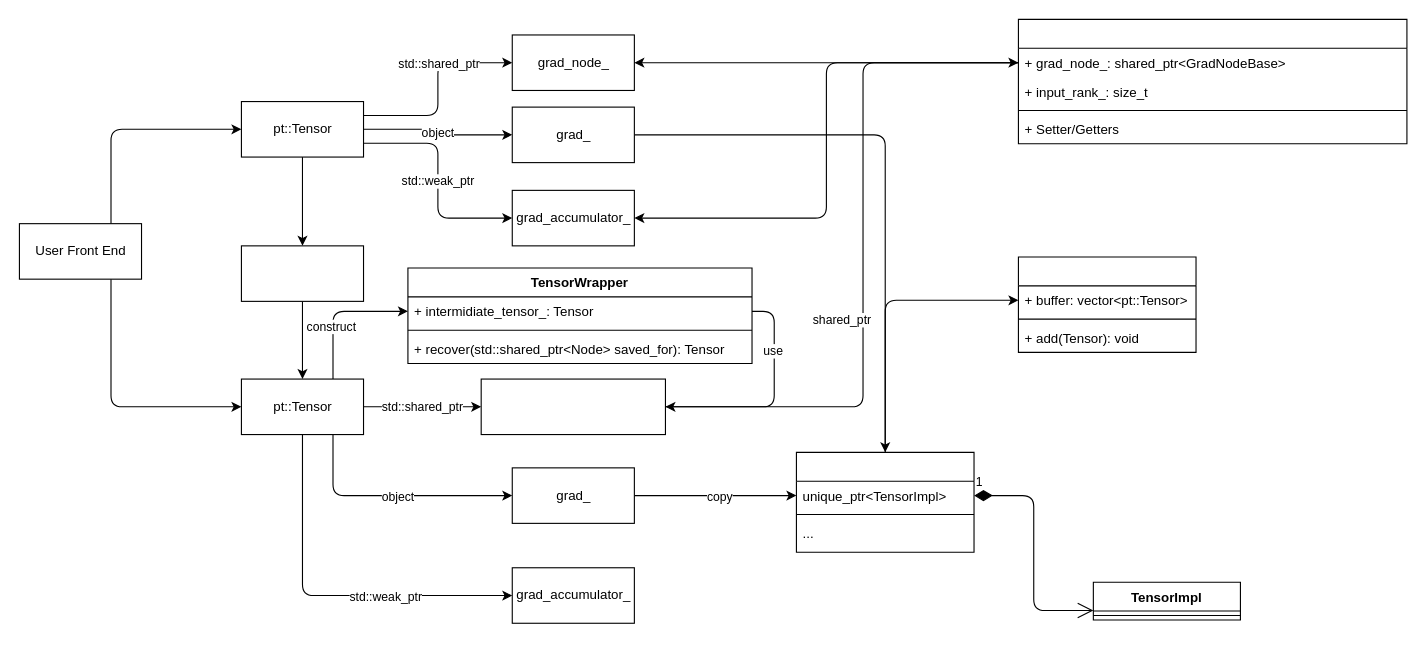
The diagram is 1426 pixels wide and 649 high, and some of its shapes have lost their labels. The shapes that lost their labels are listed below. From the top down, each one's box as (x1, y1, x2, y2) in pixels, then its label:
(1017, 18, 1407, 144): Edge
(240, 245, 364, 301): Kernel_Function
(1017, 256, 1196, 352): InputBuffer
(480, 378, 665, 435): grad_node: GradNode0
(795, 451, 974, 552): Tensor
